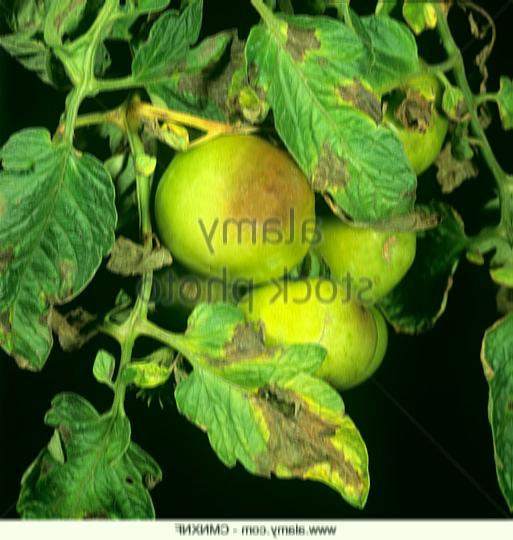Tomato leaf late blight: (161, 309, 376, 511), (238, 8, 421, 232), (0, 110, 125, 378)
